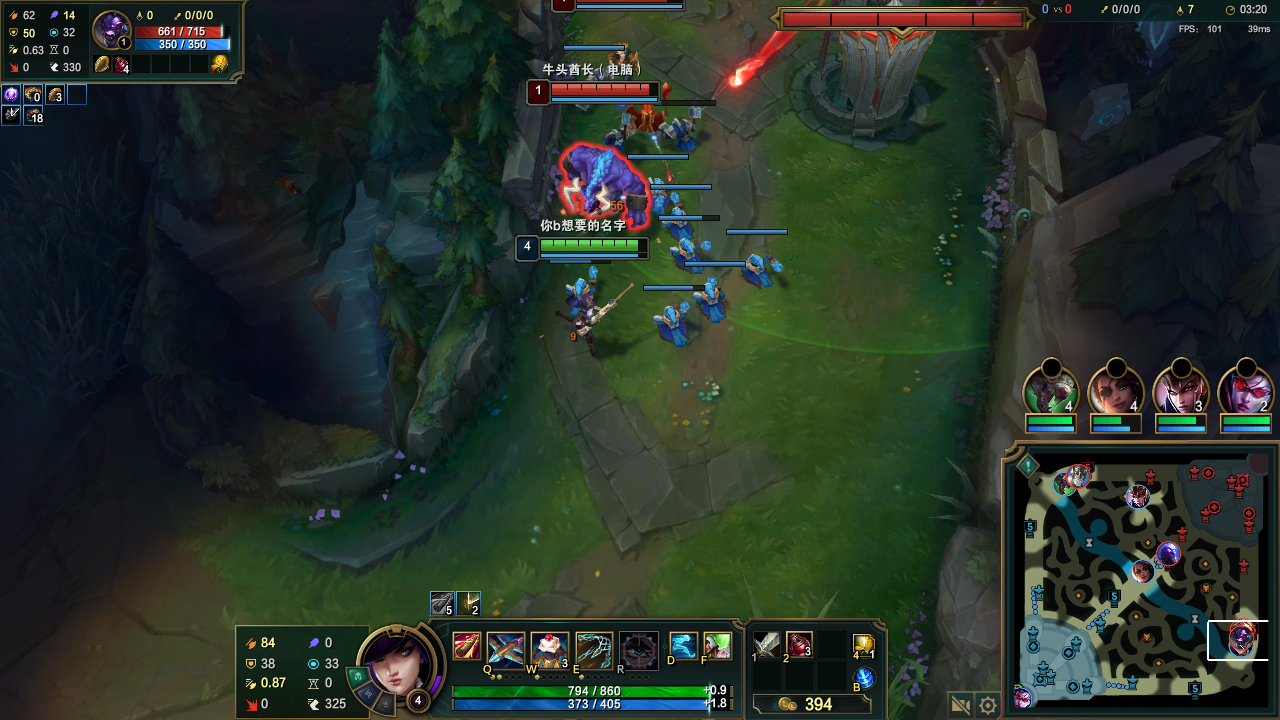DFFYT: (798, 3, 959, 134)
DFYX: (550, 84, 652, 93)
WFXB: (691, 278, 726, 319), (740, 254, 780, 287), (657, 308, 690, 347), (671, 239, 705, 271), (668, 115, 694, 145), (665, 204, 686, 237), (648, 175, 665, 209)
Yita: (1188, 675, 1203, 698)
